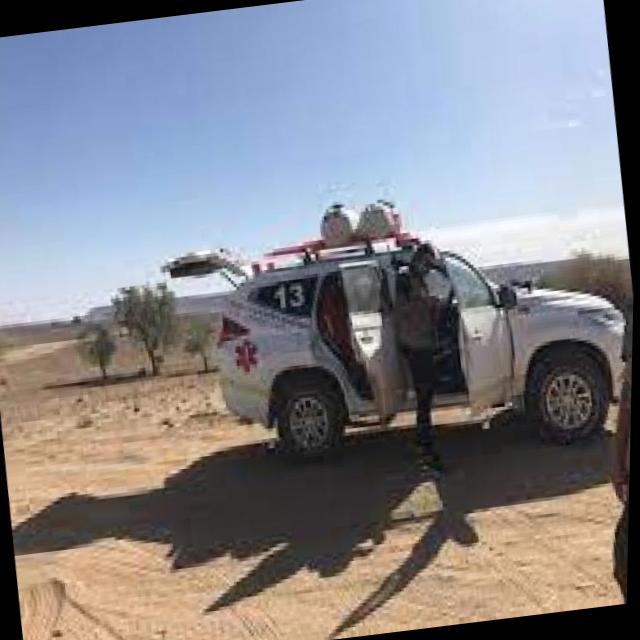ambulance: (199, 174, 637, 494)
